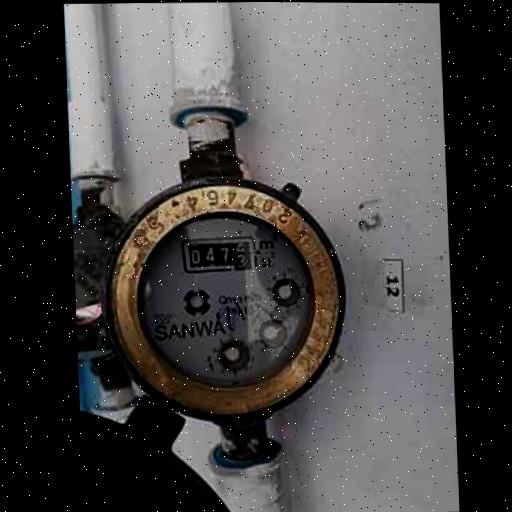0: (189, 244, 204, 266)
2: (233, 243, 250, 270)
4: (203, 244, 218, 267)
7: (217, 243, 234, 265)
border_water_meter_number: (180, 234, 258, 275)
